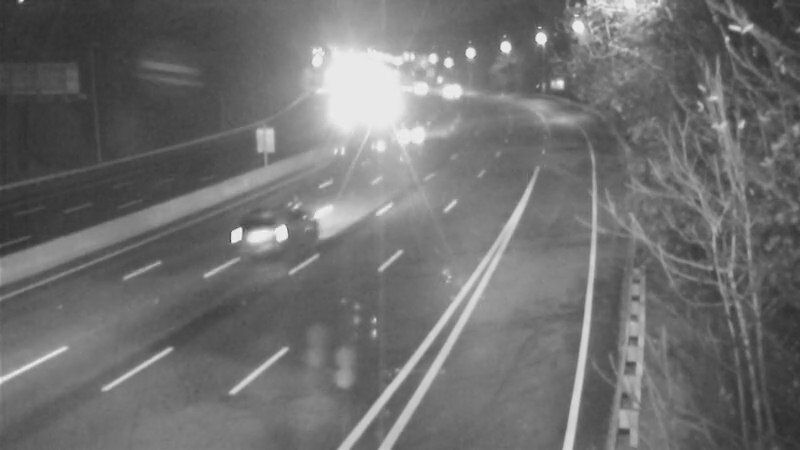vehicle: (224, 189, 304, 269), (395, 101, 445, 151)
